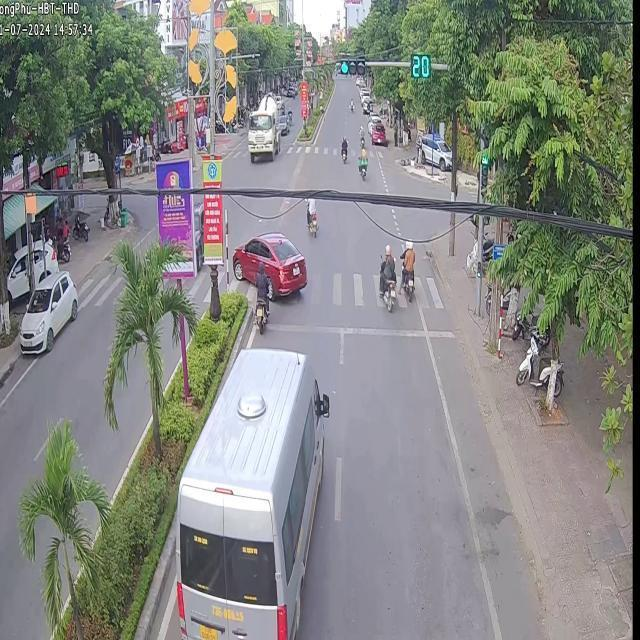car: (174, 347, 322, 638), (230, 231, 306, 298), (18, 269, 77, 354), (246, 91, 278, 159)
green_light: (410, 56, 430, 78), (338, 61, 365, 74), (481, 149, 488, 188)
motobike: (377, 242, 394, 309), (398, 238, 413, 300), (253, 271, 268, 331), (357, 145, 367, 178)
stop_line: (267, 322, 450, 344)
